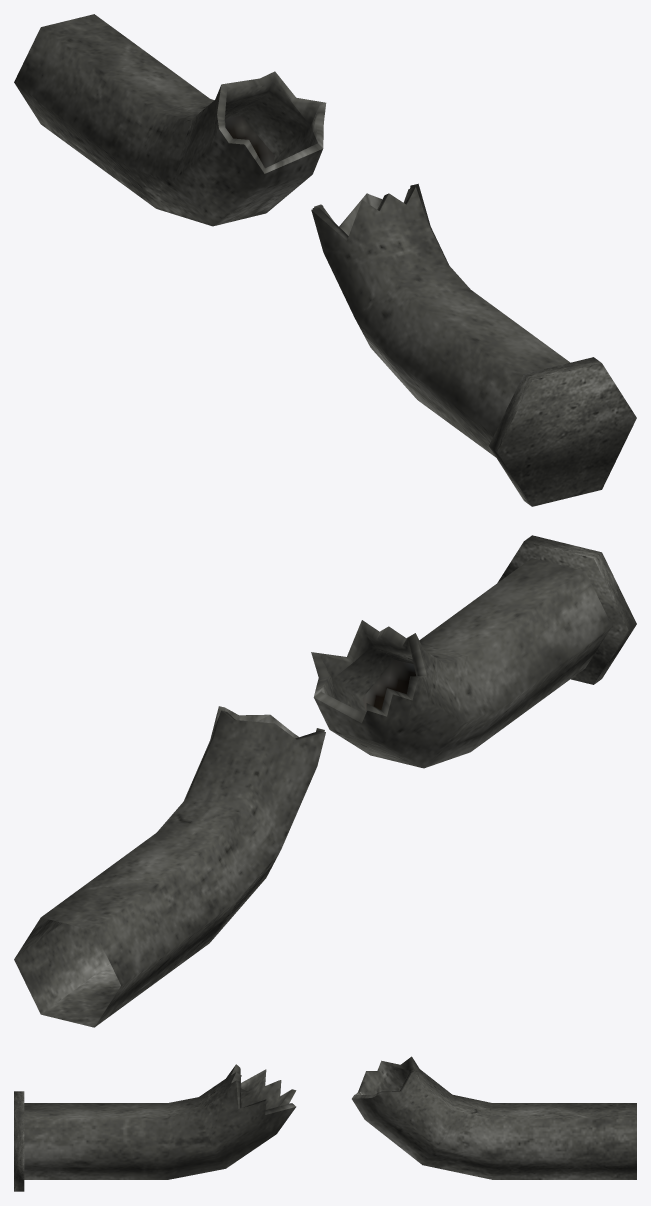
The model's file is large_metal_8_broken.fbx.
3 renders of one model, top to bottom at view 1: azimuth 30°, elevation 25°; view 2: azimuth 150°, elevation 25°; view 3: azimuth 270°, elevation 25°, orthographic. The views are drawn at different scales.
Visible parts, largest first — view 1: polySurface532; view 2: polySurface532; view 3: polySurface532.
Boxes of the visible parts, bbox=[...] form: polySurface532: bbox=[14, 14, 636, 506]; polySurface532: bbox=[14, 535, 636, 1027]; polySurface532: bbox=[14, 1056, 636, 1191].
Size of the model in its own units: 1.3 by 1.67 by 8.07.
